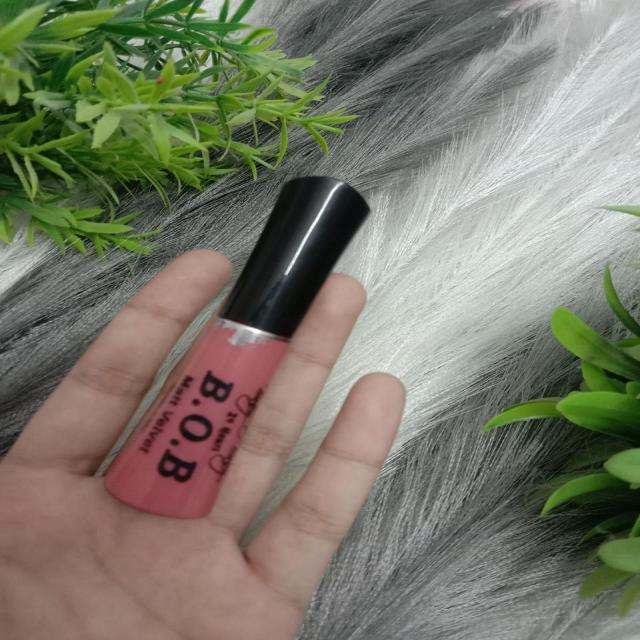lip gloss: (82, 169, 387, 529)
